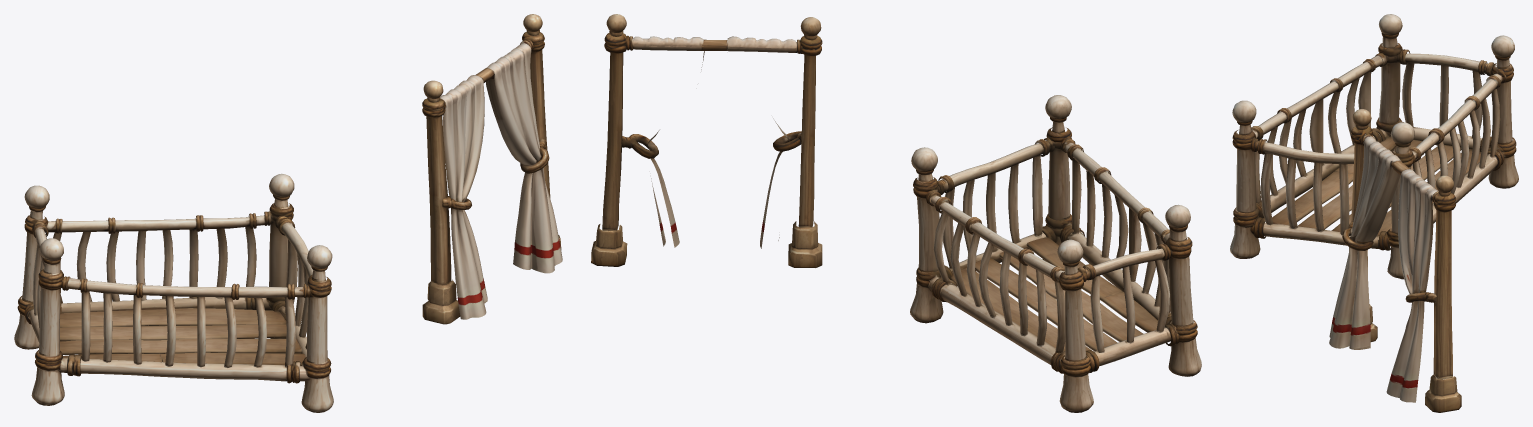
The model's file is act1_kit_v1_R21_cradle_crib_curtains.glb.
The picture shows the model from 3 angles, left to right: view 1: azimuth 30°, elevation 25°; view 2: azimuth 150°, elevation 25°; view 3: azimuth 270°, elevation 25°; orthographic projection. The views are drawn at different scales.
Visible parts, largest first — view 1: c38d3b49_16ec_4eed_b352_83e0acd1b2b2; view 2: c38d3b49_16ec_4eed_b352_83e0acd1b2b2; view 3: c38d3b49_16ec_4eed_b352_83e0acd1b2b2.
Boxes of the visible parts, bbox=[...] form: c38d3b49_16ec_4eed_b352_83e0acd1b2b2: bbox=[14, 14, 562, 412]; c38d3b49_16ec_4eed_b352_83e0acd1b2b2: bbox=[591, 14, 1201, 412]; c38d3b49_16ec_4eed_b352_83e0acd1b2b2: bbox=[1230, 14, 1518, 412].
Size of the model in its own units: 0.9995 by 0.4121 by 0.4741.
1 material, 1 textured.
